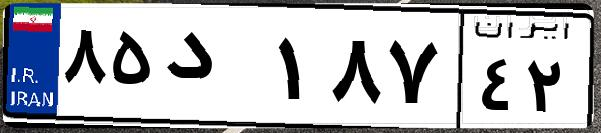1: (270, 28, 330, 110)
2: (525, 38, 570, 115)
4: (475, 38, 525, 113)
5: (110, 28, 158, 98)
7: (385, 28, 445, 110)
8: (330, 28, 385, 110), (57, 26, 110, 100)
د: (158, 20, 270, 120)
